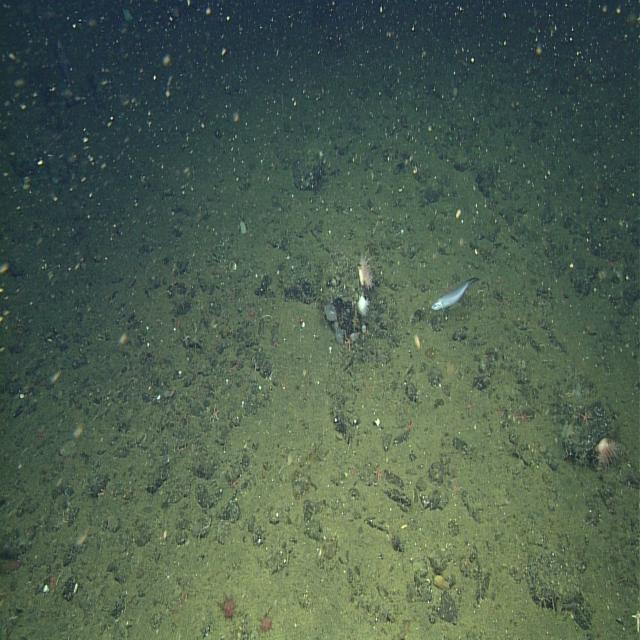Brittle Star: (576, 403, 596, 431)
